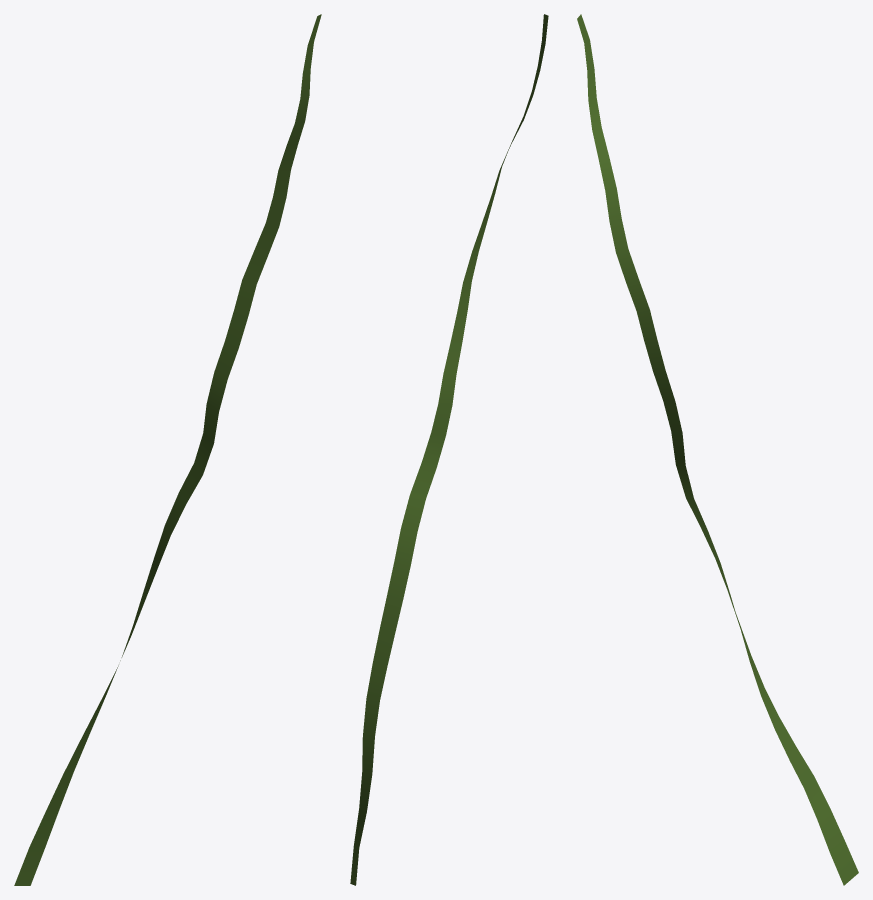
File: plant_swamp_kelp_long_solo_K.fbx
The picture shows the model from 3 angles, left to right: view 1: azimuth 90°, elevation 25°; view 2: azimuth 150°, elevation 25°; view 3: azimuth 270°, elevation 25°; orthographic projection. The views are drawn at different scales.
Parts seen in each view (by area): view 1: plant_swamp_kelp_long_solo_K; view 2: plant_swamp_kelp_long_solo_K; view 3: plant_swamp_kelp_long_solo_K.
Boxes of the visible parts, <box> form: plant_swamp_kelp_long_solo_K: <box>14,14,321,885</box>; plant_swamp_kelp_long_solo_K: <box>350,14,548,885</box>; plant_swamp_kelp_long_solo_K: <box>577,14,858,885</box>.
Size of the model in its own units: 31.93 by 266 by 81.44.
